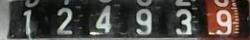digits: (16, 0, 42, 40), (168, 0, 193, 39), (56, 7, 73, 34), (134, 8, 151, 34), (214, 9, 231, 34), (95, 5, 111, 31), (246, 0, 249, 37)
